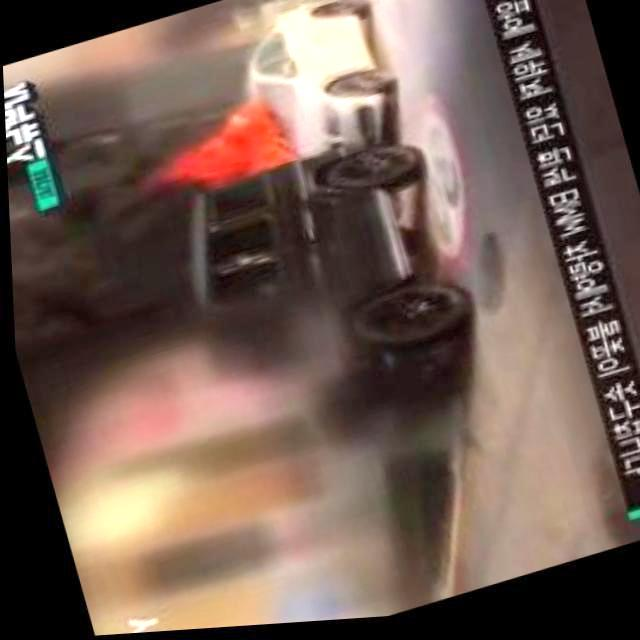fire: (192, 110, 280, 188)
